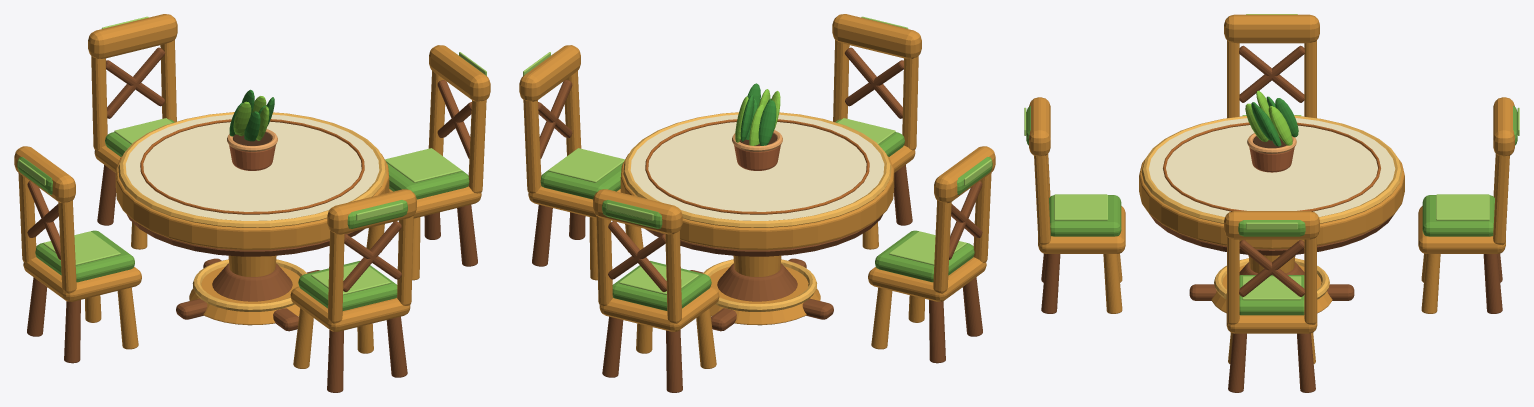
File: round-table.glb
The picture shows the model from 3 angles, left to right: view 1: azimuth 30°, elevation 25°; view 2: azimuth 150°, elevation 25°; view 3: azimuth 270°, elevation 25°; orthographic projection. The views are drawn at different scales.
Parts seen in each view (by area): view 1: Tabletop_Cream_Inlay, Tabletop_Wood_Core, Tabletop_Gold_Rim, Backrest_Cap.002, Seat_Frame, Seat_Frame.003, Pedestal_Lower_Collar, Backrest_Cap.001, Table_Base, Backrest_Cap, Tabletop_Inner_Line, Seat_Cushion.003 (+45 smaller); view 2: Tabletop_Cream_Inlay, Tabletop_Wood_Core, Tabletop_Gold_Rim, Backrest_Cap, Seat_Frame.002, Seat_Frame.003, Pedestal_Lower_Collar, Backrest_Cap.001, Table_Base, Backrest_Cap.002, Seat_Cushion.003, Tabletop_Inner_Line (+45 smaller); view 3: Tabletop_Cream_Inlay, Tabletop_Wood_Core, Backrest_Cap.003, Tabletop_Gold_Rim, Seat_Cushion, Seat_Cushion.002, Backrest_Cap.001, Seat_Frame, Seat_Frame.002, Seat_Frame.001, Seat_Cushion_Highlight, Seat_Cushion_Highlight.002 (+27 smaller).
Boxes of the visible parts, box(x1,y1,x2,y2) form: Tabletop_Cream_Inlay: box(125, 114, 379, 220); Tabletop_Wood_Core: box(115, 153, 389, 250); Tabletop_Gold_Rim: box(118, 112, 386, 227); Backrest_Cap.002: box(88, 14, 177, 58); Seat_Frame: box(290, 286, 410, 331); Seat_Frame.003: box(23, 257, 141, 301); Pedestal_Lower_Collar: box(212, 263, 292, 301); Backrest_Cap.001: box(429, 45, 490, 101); Table_Base: box(189, 266, 299, 325); Backrest_Cap: box(327, 189, 416, 234); Tabletop_Inner_Line: box(140, 119, 364, 214); Seat_Cushion.003: box(35, 230, 134, 282); Tabletop_Cream_Inlay: box(630, 114, 884, 220); Tabletop_Wood_Core: box(620, 153, 894, 250); Tabletop_Gold_Rim: box(623, 112, 891, 227); Backrest_Cap: box(832, 14, 921, 58); Seat_Frame.002: box(599, 286, 719, 331); Seat_Frame.003: box(868, 257, 986, 301); Pedestal_Lower_Collar: box(717, 263, 797, 301); Backrest_Cap.001: box(519, 45, 580, 101); Table_Base: box(710, 266, 820, 325); Backrest_Cap.002: box(593, 189, 682, 234); Seat_Cushion.003: box(875, 230, 974, 282); Tabletop_Inner_Line: box(645, 119, 869, 214); Tabletop_Cream_Inlay: box(1148, 118, 1395, 216); Tabletop_Wood_Core: box(1139, 159, 1404, 249); Backrest_Cap.003: box(1224, 14, 1319, 43); Tabletop_Gold_Rim: box(1141, 115, 1402, 223); Seat_Cushion: box(1049, 195, 1121, 236); Seat_Cushion.002: box(1422, 195, 1494, 236); Backrest_Cap.001: box(1224, 211, 1319, 239); Seat_Frame: box(1038, 206, 1125, 253); Seat_Frame.002: box(1418, 206, 1505, 253); Seat_Frame.001: box(1226, 293, 1317, 333); Seat_Cushion_Highlight: box(1054, 194, 1107, 220); Seat_Cushion_Highlight.002: box(1436, 194, 1489, 220).
Size of the model in its own units: 2.95 by 1.32 by 2.95.
